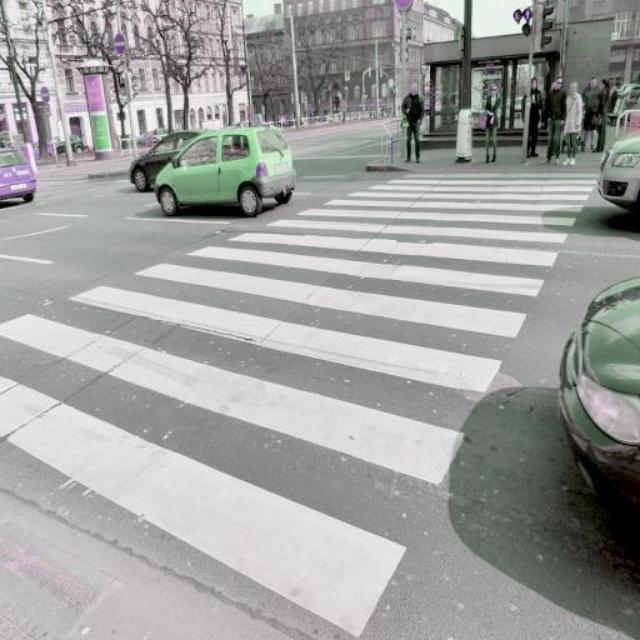sidewalk: (8, 173, 588, 640)
